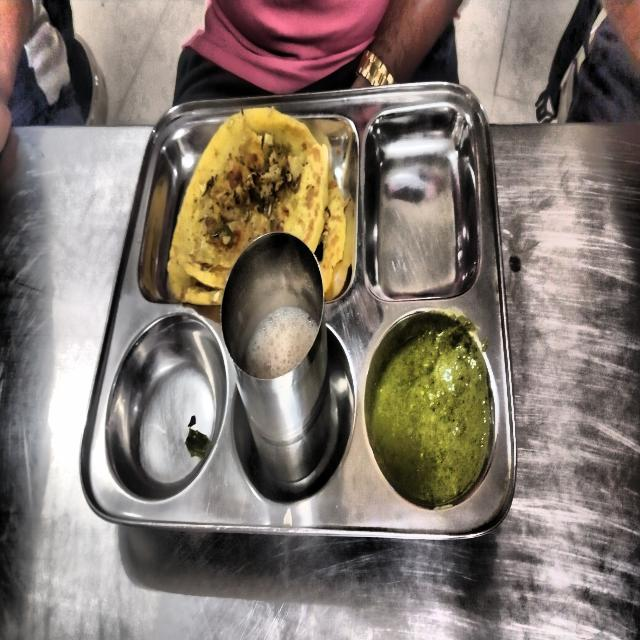Channa-Daal: (373, 316, 489, 500)
Roti: (167, 108, 350, 306)
